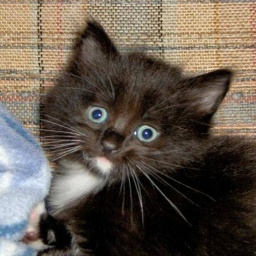cat: (33, 21, 256, 256)
